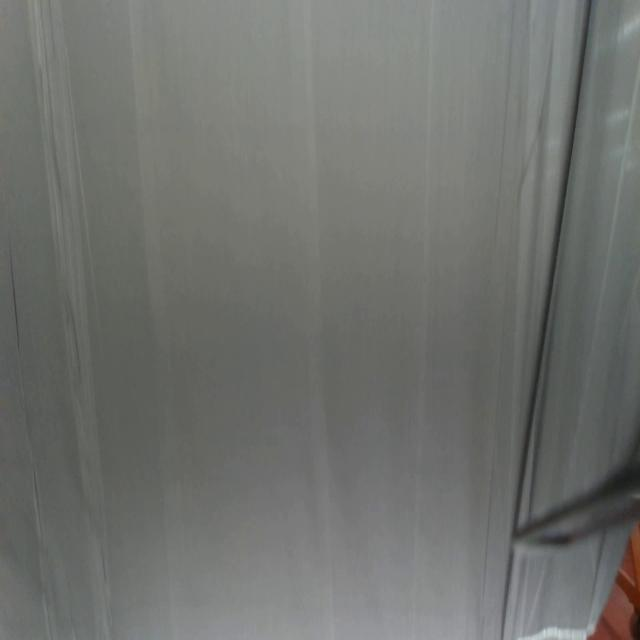crease: (498, 2, 596, 638), (40, 0, 113, 638), (7, 232, 55, 640)
